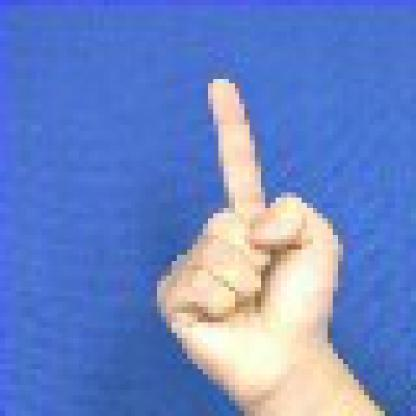one: (147, 76, 347, 416)
